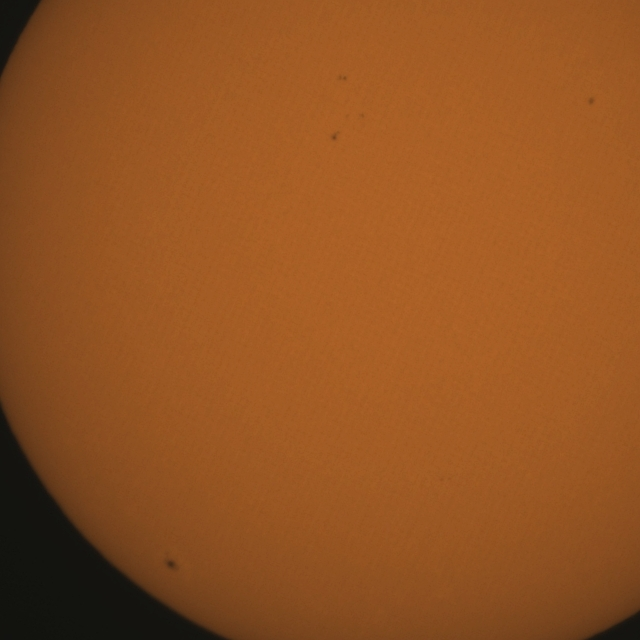sunspot: (163, 558, 180, 574), (330, 131, 340, 142), (586, 96, 596, 107), (336, 74, 348, 83)
